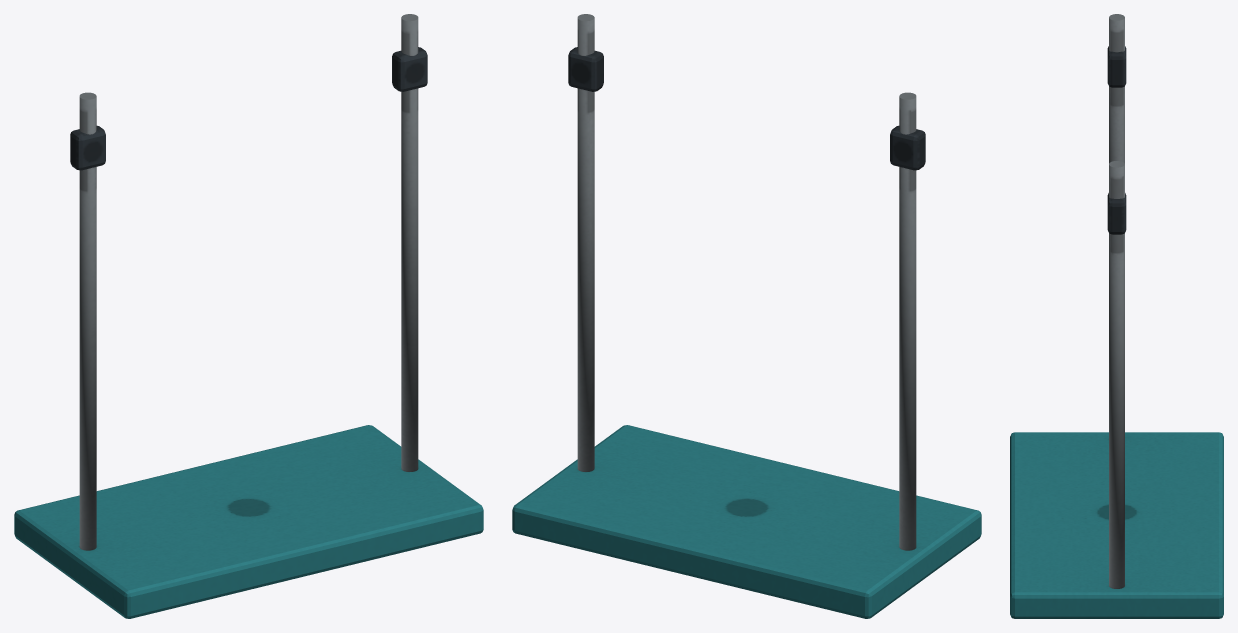
The picture shows the model from 3 angles, left to right: view 1: azimuth 30°, elevation 25°; view 2: azimuth 150°, elevation 25°; view 3: azimuth 270°, elevation 25°; orthographic projection. The views are drawn at different scales.
Bounding box in the file's own units: 1.45 × 1.85 × 0.8.
Materials: 1 (1 with a texture image).
